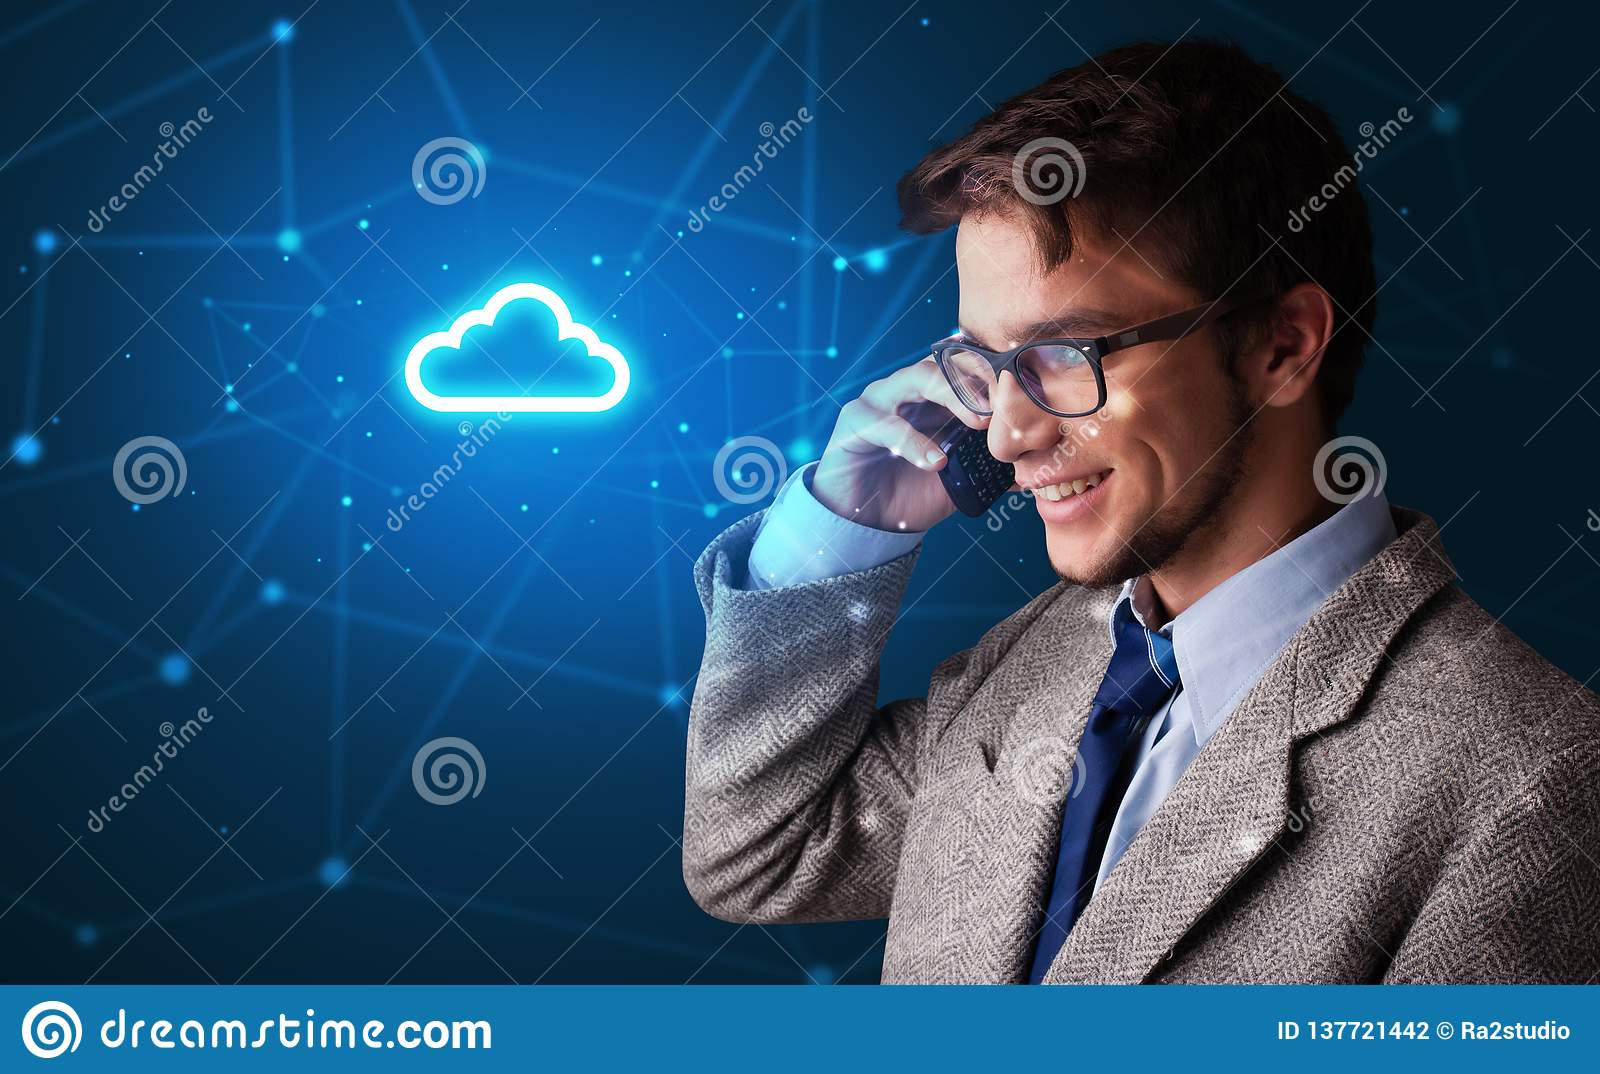phone: (937, 411, 1020, 532)
talk: (827, 282, 1193, 613)
